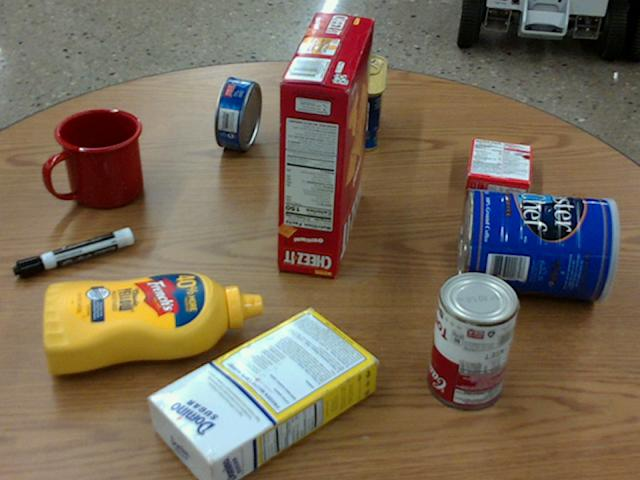cracker_box: (279, 11, 375, 275)
gelatin_box: (465, 136, 530, 200)
large_marker: (13, 226, 132, 277)
master_chef_can: (459, 186, 620, 299)
mug: (46, 109, 142, 209)
mustard_bottle: (42, 270, 262, 374)
potted_meat_can: (337, 53, 385, 150)
sugar_box: (144, 307, 376, 479)
tomato_soup_can: (429, 269, 519, 407)
tuna_fish_can: (213, 76, 261, 150)
